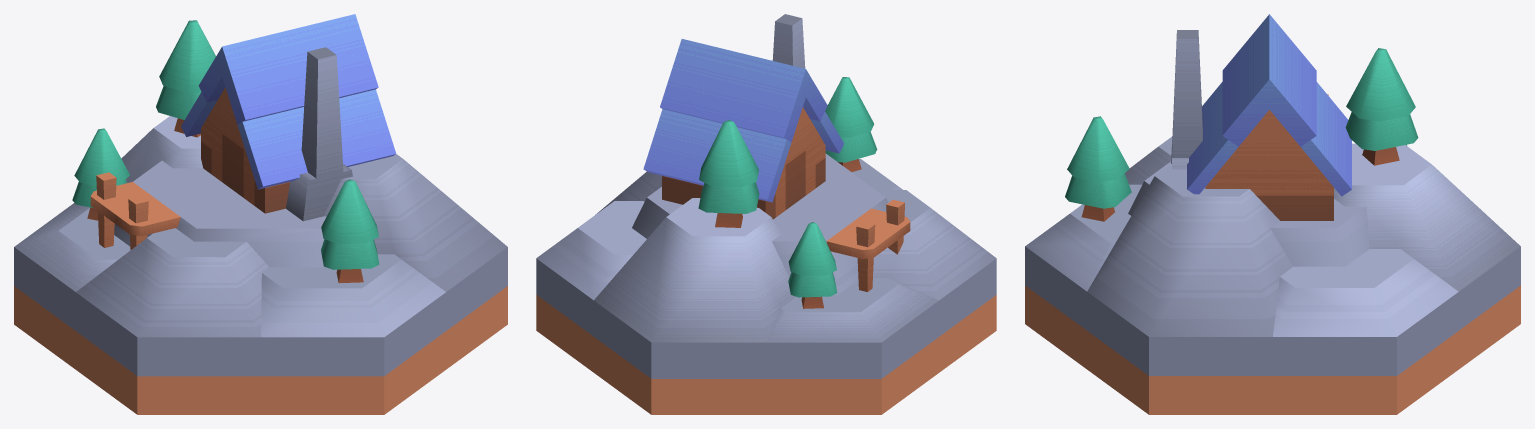
The model's file is Cabin.glb.
3 renders of one model, left to right at view 1: azimuth 30°, elevation 25°; view 2: azimuth 150°, elevation 25°; view 3: azimuth 270°, elevation 25°, orthographic. The views are drawn at different scales.
Parts seen in each view (by area): view 1: building-cabin; view 2: building-cabin; view 3: building-cabin.
Part boxes in pixels (x1,y1,x2,y2): building-cabin: [14, 14, 507, 414]; building-cabin: [536, 14, 996, 414]; building-cabin: [1025, 14, 1520, 414].
Size of the model in its own units: 1 by 0.7683 by 1.15.
1 material, 1 textured.
